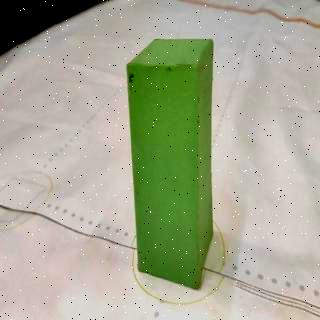greenbox: (128, 39, 214, 288)
